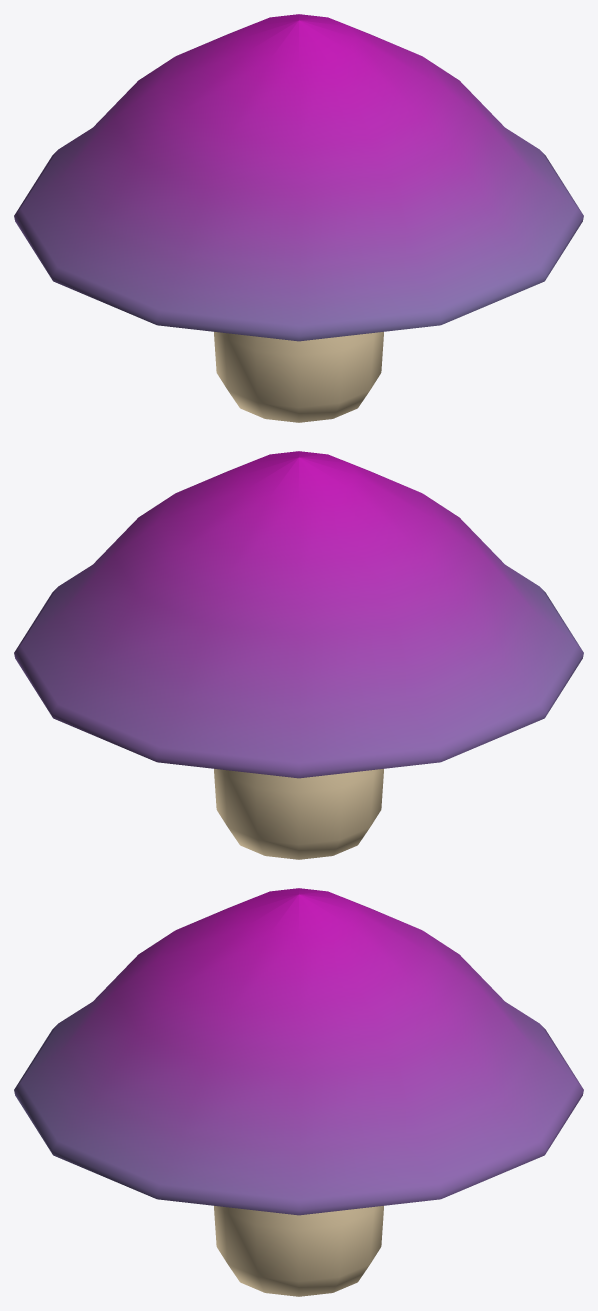
The model's file is Mashroom_3.fbx.
3 renders of one model, top to bottom at view 1: azimuth 30°, elevation 25°; view 2: azimuth 150°, elevation 25°; view 3: azimuth 270°, elevation 25°, orthographic.
Visible parts, largest first — view 1: Mashroom_3; view 2: Mashroom_3; view 3: Mashroom_3.
Boxes of the visible parts, x1,y1,x2,y2 form: Mashroom_3: (14, 14, 583, 422); Mashroom_3: (14, 451, 583, 859); Mashroom_3: (14, 888, 583, 1296).
Bounding box in the file's own units: 0.2614 × 0.1931 × 0.2614.
